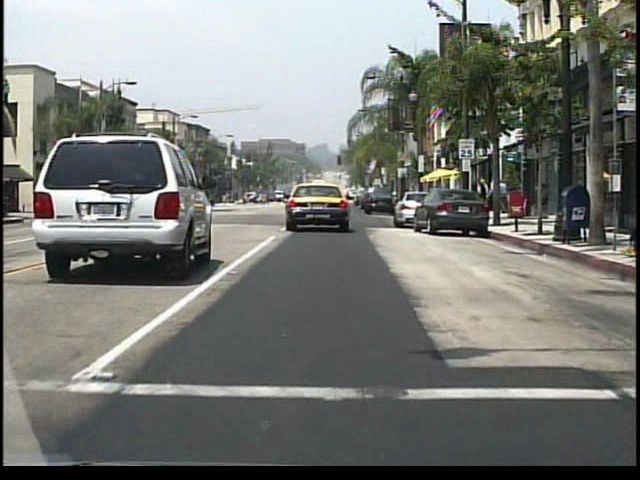person: (471, 175, 488, 220), (478, 178, 492, 217), (497, 179, 509, 215), (491, 185, 501, 212)
